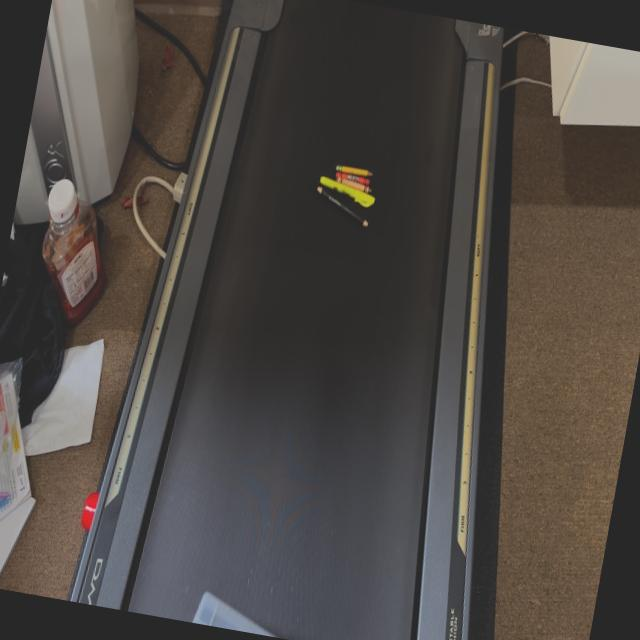Trash: (310, 154, 384, 234)
